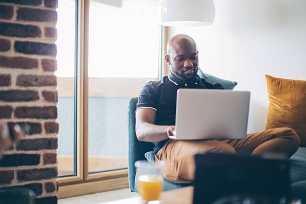male: (163, 35, 205, 80)
